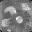people: (5, 6, 17, 16), (1, 18, 11, 27), (15, 16, 23, 24)
